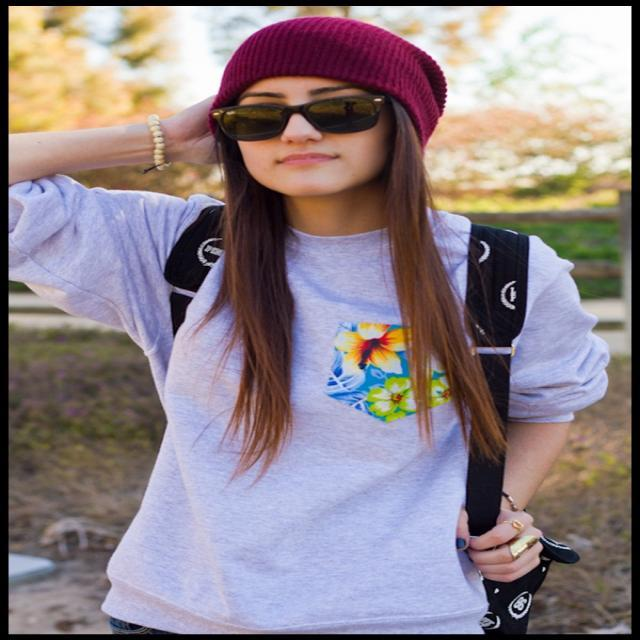glasses: (215, 94, 380, 141)
